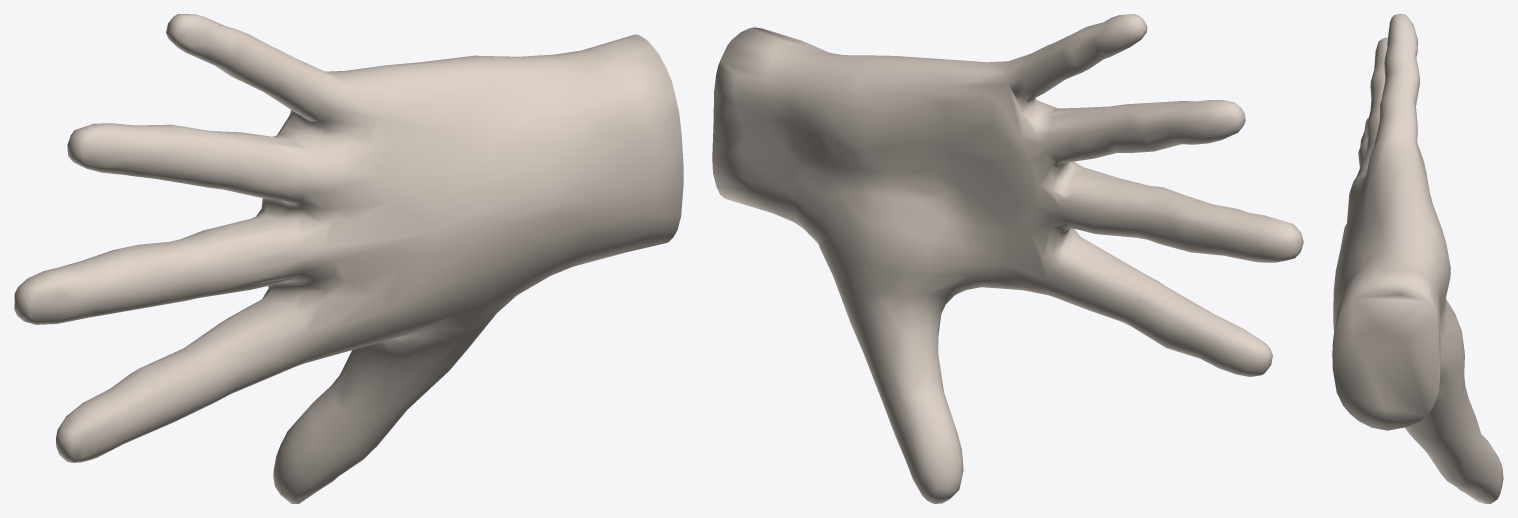
Rendered from cursor_dedos_sep.glb.
3 renders of one model, left to right at view 1: azimuth 30°, elevation 25°; view 2: azimuth 150°, elevation 25°; view 3: azimuth 270°, elevation 25°, orthographic. The views are drawn at different scales.
Visible parts, largest first — view 1: hand_dedos_sep; view 2: hand_dedos_sep; view 3: hand_dedos_sep.
Part boxes in pixels (left/top/right/bottom): hand_dedos_sep: left=14, top=14, right=683, bottom=503; hand_dedos_sep: left=712, top=14, right=1303, bottom=503; hand_dedos_sep: left=1332, top=14, right=1503, bottom=503.
Size of the model in its own units: 0.08 by 0.0675 by 0.0245.
